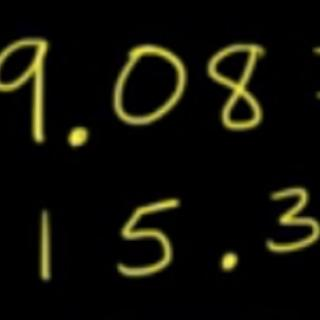.: (67, 122, 91, 151), (221, 248, 240, 276)
0: (111, 39, 187, 131)
1: (35, 204, 54, 284)
3: (263, 180, 320, 255)
5: (110, 196, 184, 284)
8: (201, 41, 272, 133)
9: (1, 35, 54, 146)
